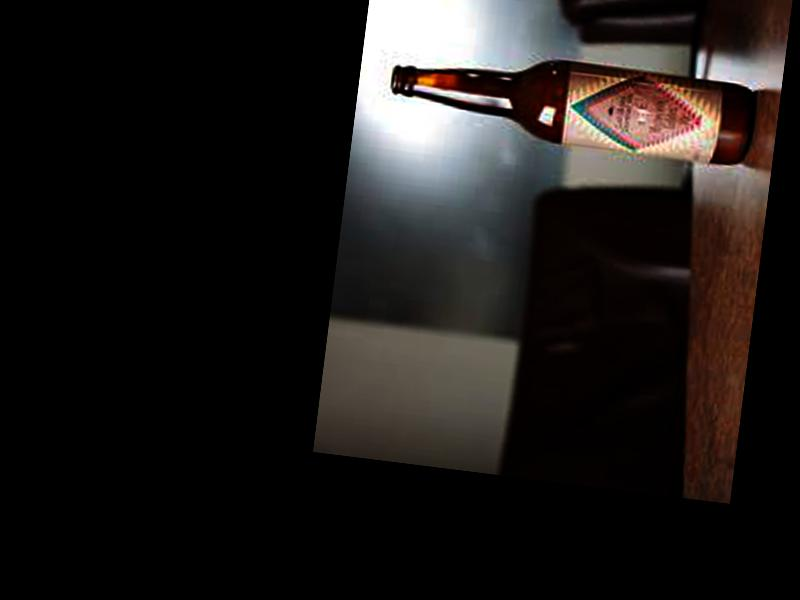Beer: (389, 41, 756, 164)
